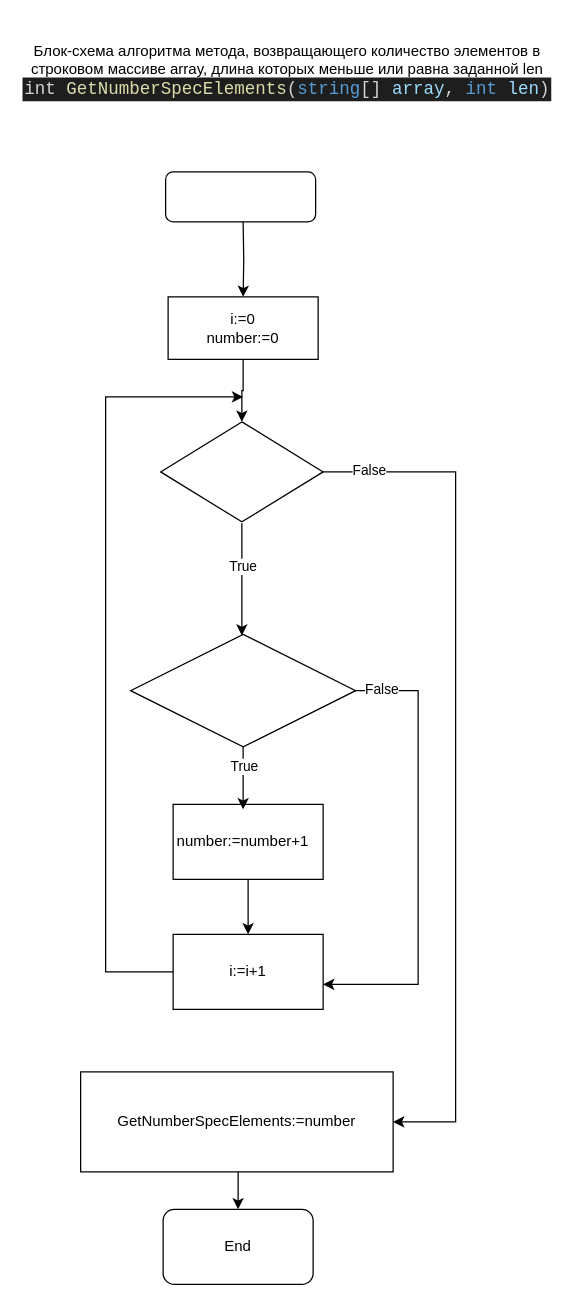
The diagram is 574 pixels wide and 1306 high, and some of its shapes have lost their labels. The centre of each missing label's shape, as x and y in pixels:
"array[i]<=len" goes at point 242,690.
"i<=array.Length-1" goes at point 241,471.
"Start" goes at point 240,196.
